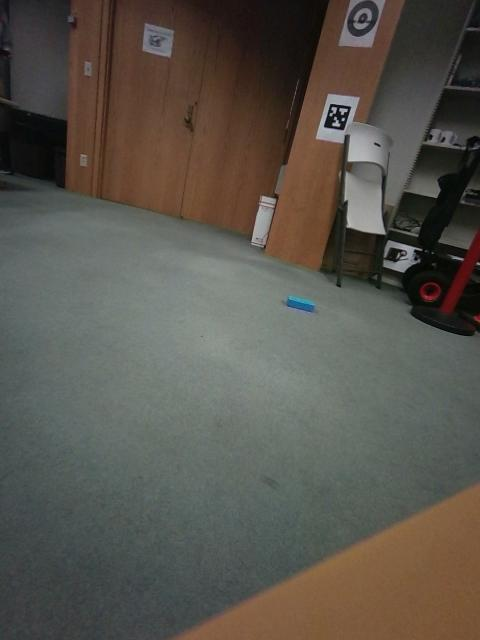block: (66, 346, 116, 428)
